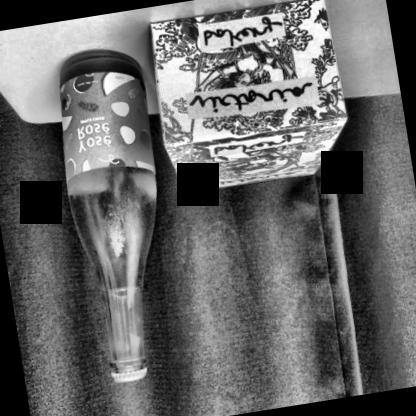yoserose: (56, 70, 150, 169)
